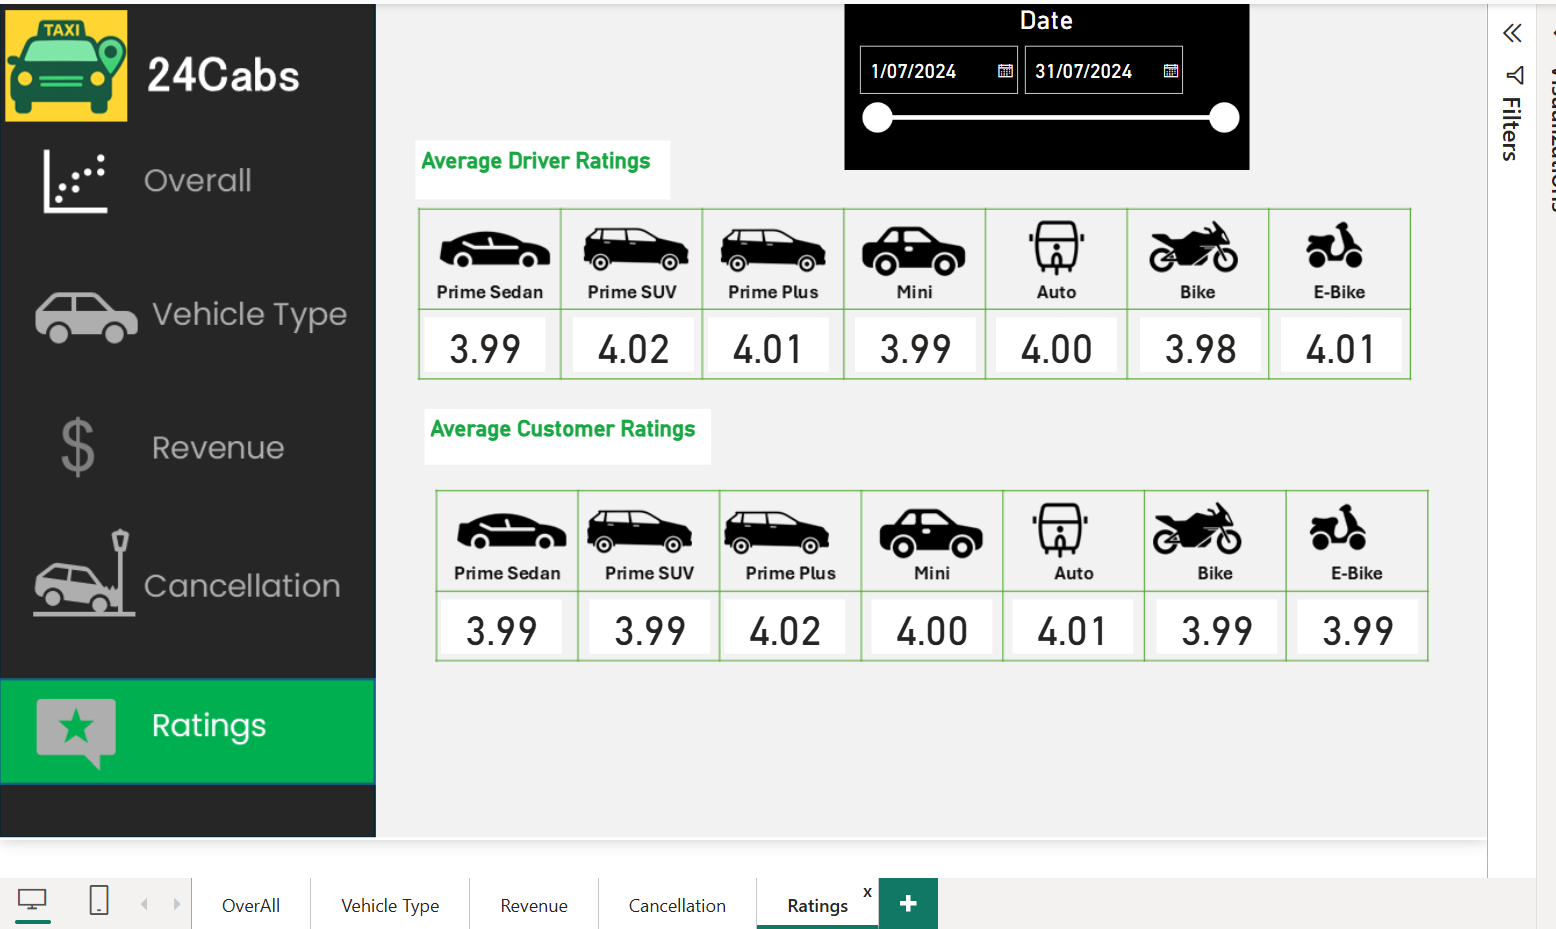

What the dashboard file says about the page in this screenshot:
{"tool":"powerbi","page":{"name":"Ratings","canvas":[1280,720],"ordinal":4},"visuals":[{"type":"card","fields":{"Values":["Avg(July.Driver_Ratings)"]},"box":[364.9,270.1,103.9,46.8],"z":0},{"type":"card","fields":{"Values":["Avg(July.Driver_Ratings)"]},"box":[493.5,270.1,103.9,46.8],"z":1000},{"type":"card","fields":{"Values":["Avg(July.Driver_Ratings)"]},"box":[609.1,270.1,103.9,46.8],"z":2000},{"type":"card","fields":{"Values":["Avg(July.Driver_Ratings)"]},"box":[736.4,270.1,103.9,46.8],"z":3000},{"type":"card","fields":{"Values":["Avg(July.Driver_Ratings)"]},"box":[857.1,270.1,103.9,46.8],"z":4000},{"type":"card","fields":{"Values":["Avg(July.Driver_Ratings)"]},"box":[981.8,270.1,103.9,46.8],"z":5000},{"type":"card","fields":{"Values":["Avg(July.Driver_Ratings)"]},"box":[1102.6,270.1,103.9,46.8],"z":6000},{"type":"card","fields":{"Values":["Avg(July.Customer_Rating)"]},"box":[379.3,513,103.9,46.8],"z":7000},{"type":"card","fields":{"Values":["Avg(July.Customer_Rating)"]},"box":[507.8,513,103.9,46.8],"z":8000},{"type":"card","fields":{"Values":["Avg(July.Customer_Rating)"]},"box":[623.4,513,103.9,46.8],"z":9000},{"type":"card","fields":{"Values":["Avg(July.Customer_Rating)"]},"box":[750.7,513,103.9,46.8],"z":10000},{"type":"card","fields":{"Values":["Avg(July.Customer_Rating)"]},"box":[871.5,513,103.9,46.8],"z":11000},{"type":"card","fields":{"Values":["Avg(July.Customer_Rating)"]},"box":[996.1,513,103.9,46.8],"z":12000},{"type":"card","fields":{"Values":["Avg(July.Customer_Rating)"]},"box":[1116.9,513,103.9,46.8],"z":13000},{"type":"textbox","box":[357.1,116.9,219.5,50.6],"z":14000},{"type":"textbox","box":[364.9,348.1,246.8,48.1],"z":15000},{"type":"slicer","title":"Date","fields":{"Values":["July.Date"]},"box":[727.3,0,348.1,142.9],"z":16000}]}

Visuals, with their boxes on the page's 1280x720 design canvas (x1, y1, x2, y2). These are canvas units, not pixel positions in the 1556x929 screenshot, which may show the page scaled, cropped or inside an application window:
card - Avg(July.Driver_Ratings): region(365, 270, 469, 317)
card - Avg(July.Driver_Ratings): region(494, 270, 597, 317)
card - Avg(July.Driver_Ratings): region(609, 270, 713, 317)
card - Avg(July.Driver_Ratings): region(736, 270, 840, 317)
card - Avg(July.Driver_Ratings): region(857, 270, 961, 317)
card - Avg(July.Driver_Ratings): region(982, 270, 1086, 317)
card - Avg(July.Driver_Ratings): region(1103, 270, 1206, 317)
card - Avg(July.Customer_Rating): region(379, 513, 483, 560)
card - Avg(July.Customer_Rating): region(508, 513, 612, 560)
card - Avg(July.Customer_Rating): region(623, 513, 727, 560)
card - Avg(July.Customer_Rating): region(751, 513, 855, 560)
card - Avg(July.Customer_Rating): region(872, 513, 975, 560)
card - Avg(July.Customer_Rating): region(996, 513, 1100, 560)
card - Avg(July.Customer_Rating): region(1117, 513, 1221, 560)
textbox: region(357, 117, 577, 168)
textbox: region(365, 348, 612, 396)
"Date" slicer: region(727, 0, 1075, 143)
